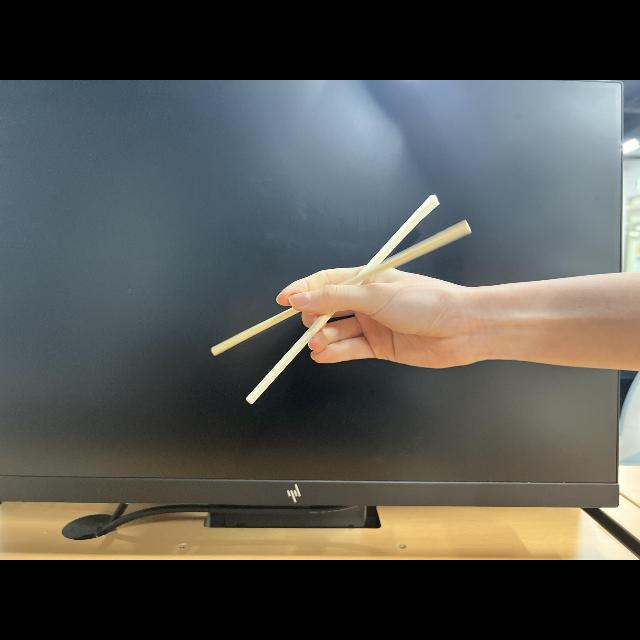stick: (211, 196, 469, 407)
